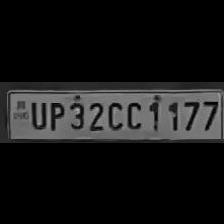1: (164, 97, 181, 131), (146, 97, 162, 131)
2: (86, 97, 104, 130)
3: (66, 97, 86, 130)
7: (199, 96, 219, 130), (180, 97, 198, 130)
C: (123, 97, 143, 130), (104, 97, 122, 130)
P: (47, 98, 65, 130)
U: (28, 98, 46, 130)
